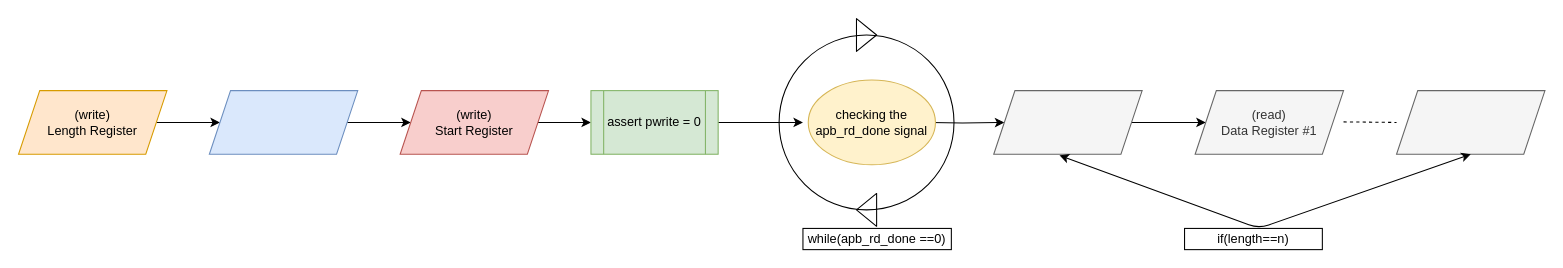
Image size: 1563x268. Some labels were removed from this diagram. The box of each missing label's shape, as (x1, y1, x2, y2) in pixels:
(read) Data Register #0: (993, 90, 1142, 154)
(read) Data Register #n-1: (1395, 90, 1545, 154)
(write) Max Burst Size Register: (208, 90, 358, 154)
